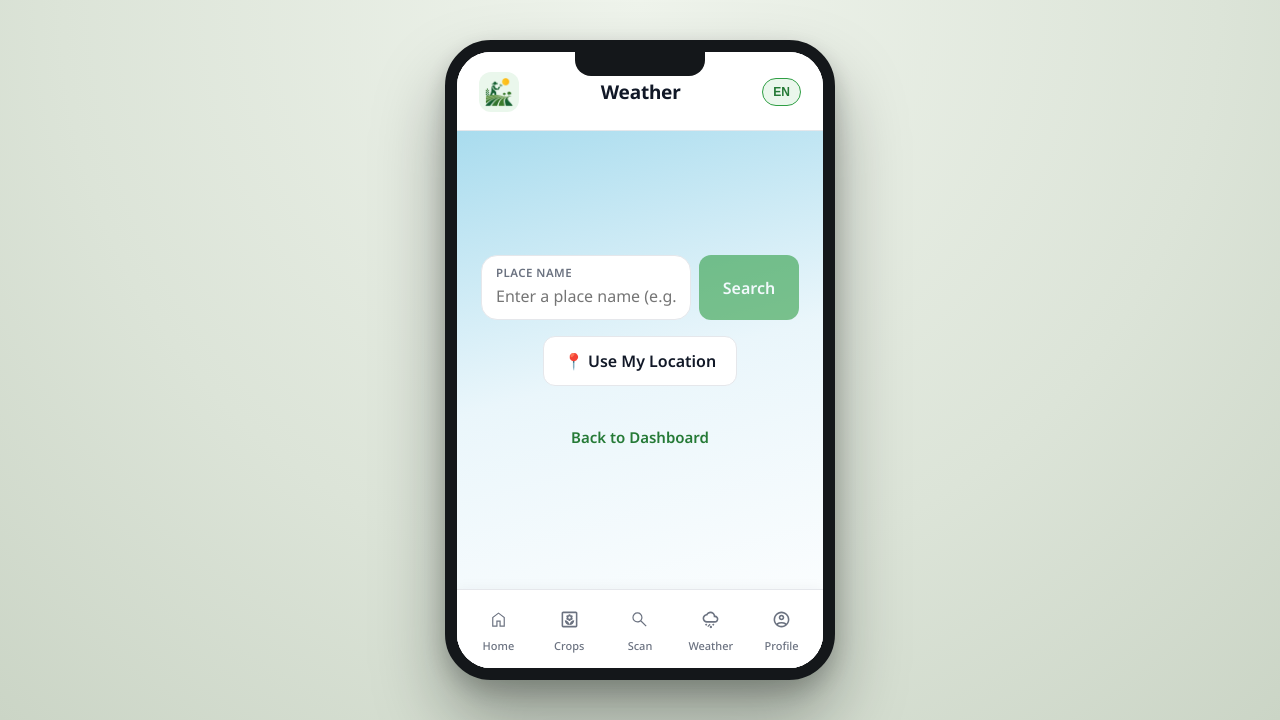
Test: WeatherPage › uses the browser's geolocation (with permission) when 'Use My Location' is clicked
This screenshot has width=1280, height=720.
Click the button "📍 Use My Location". click: coordinates (640, 361)
box: x1=543 y1=336 x2=737 y2=386
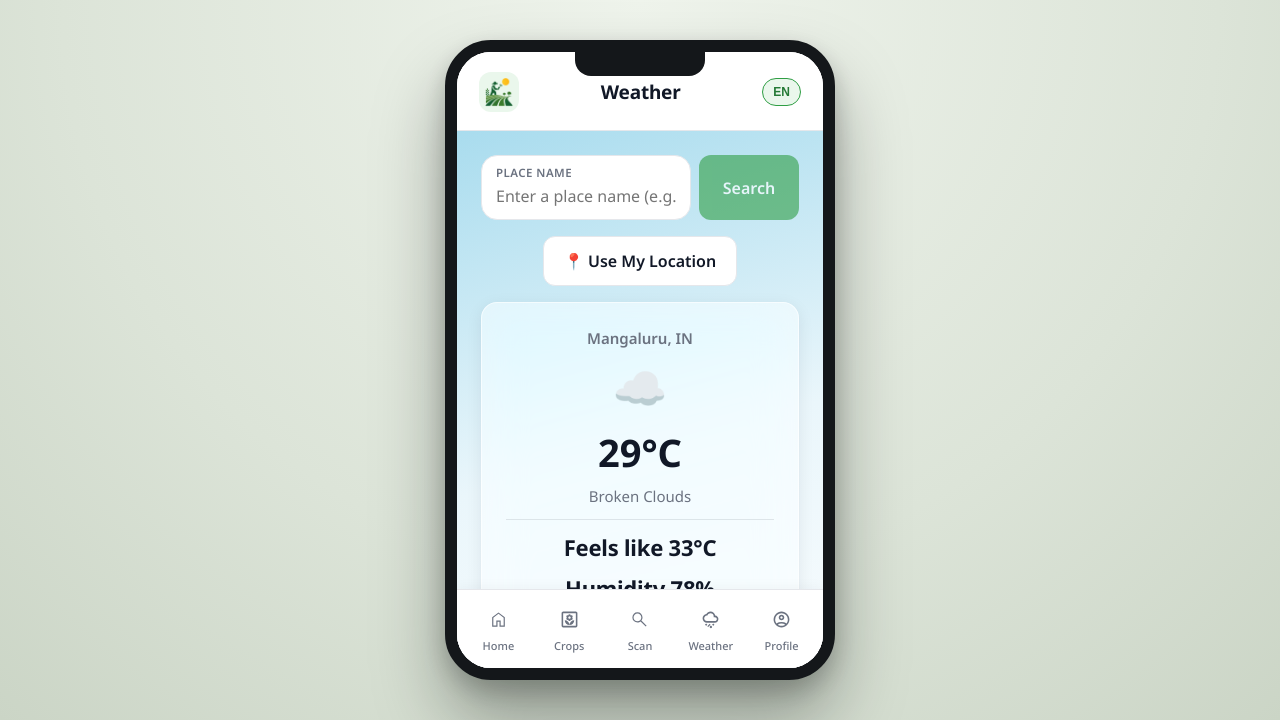
Now the text "Mangaluru, IN" is shown, box x1=587 y1=328 x2=693 y2=348
